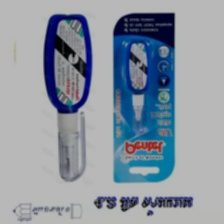book: (108, 11, 178, 186)
correction_fluid: (39, 12, 95, 184), (122, 40, 152, 136)
